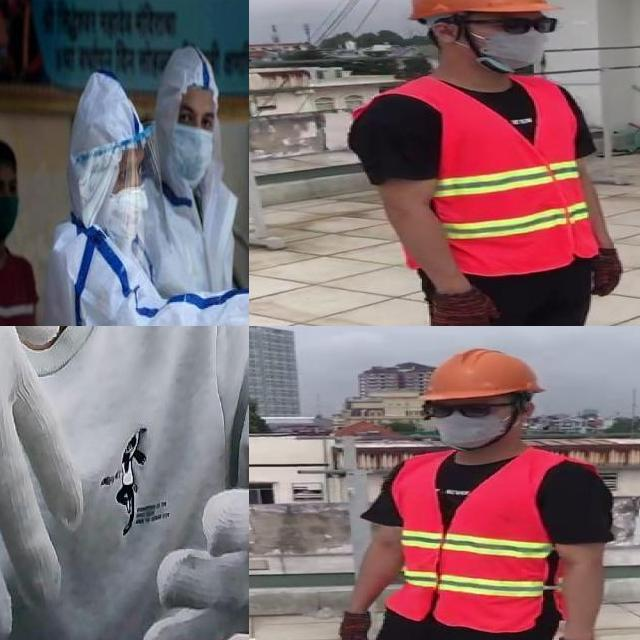GLASS: (421, 400, 522, 418), (468, 16, 559, 35)
GLOVE: (143, 326, 249, 640), (0, 326, 83, 640), (429, 287, 499, 326), (591, 245, 623, 297), (338, 609, 375, 640)
HELMET: (417, 348, 551, 406), (402, 0, 560, 25)
MASK: (164, 114, 212, 187), (97, 187, 153, 248)
VEST: (349, 72, 597, 277), (384, 449, 570, 633)
